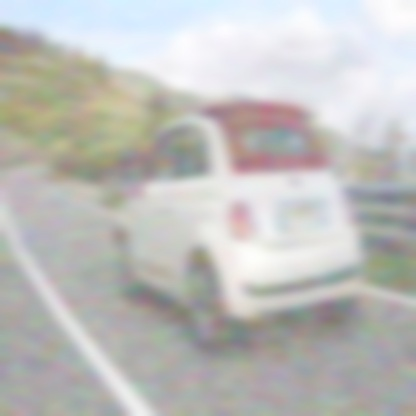Vehicle: (115, 94, 368, 364)
